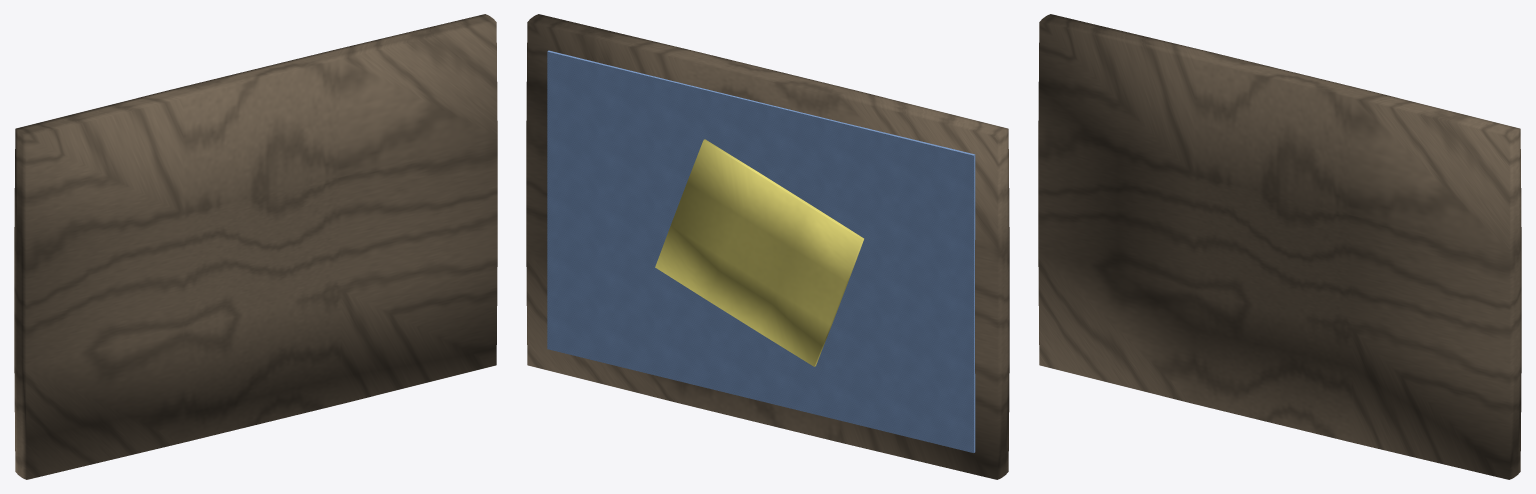
File: painting_shape.glb
3 renders of one model, left to right at view 1: azimuth 30°, elevation 25°; view 2: azimuth 150°, elevation 25°; view 3: azimuth 330°, elevation 25°, orthographic.
Parts seen in each view (by area): view 1: painting_shape_body; view 2: painting_shape_body; view 3: painting_shape_body.
Part boxes in pixels (box(x1,y1,x2,y2)): painting_shape_body: box(14, 14, 497, 479); painting_shape_body: box(526, 14, 1009, 479); painting_shape_body: box(1038, 14, 1521, 479).
Bounding box in the file's own units: 1 × 0.7 × 0.06.
Materials: 3 (3 with a texture image).
